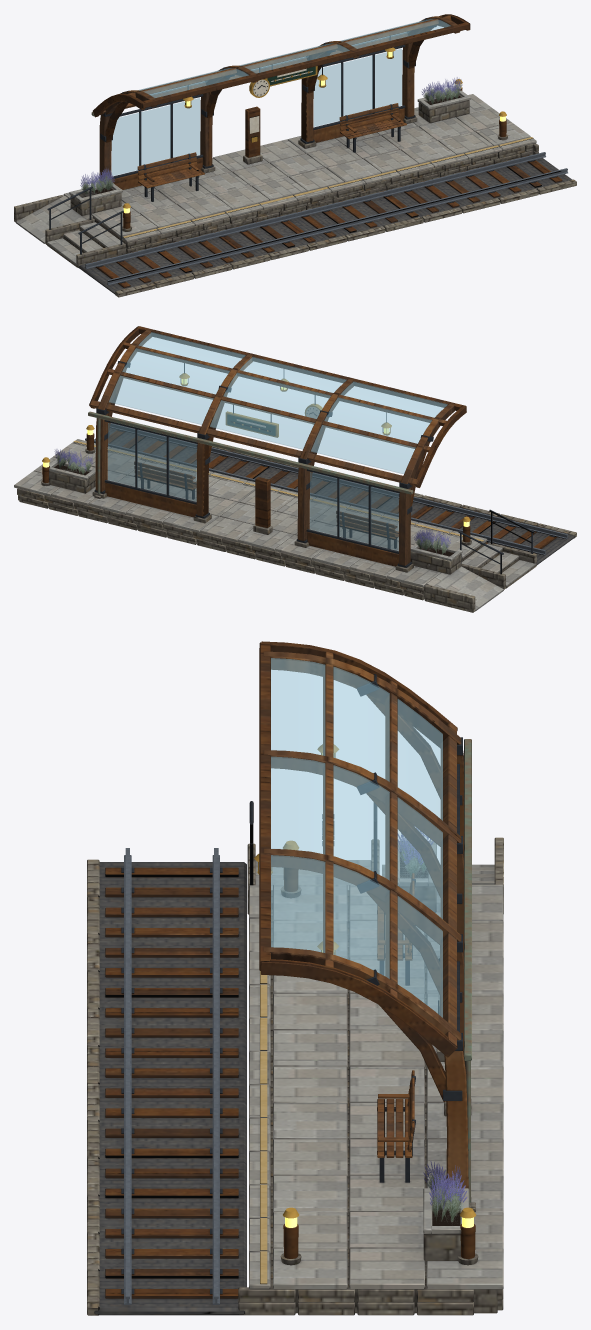
Rendered from public_tram_station.glb.
3 renders of one model, top to bottom at view 1: azimuth 30°, elevation 25°; view 2: azimuth 150°, elevation 25°; view 3: azimuth 270°, elevation 25°, orthographic. The views are drawn at different scales.
Parts seen in each view (by area): view 1: TramPlatform, TramTrackway, TramCanopyTimber, TramCanopyGlass, TramStationProps, TramPlanterLavender; view 2: TramCanopyGlass, TramPlatform, TramCanopyTimber, TramTrackway, TramStationProps, TramPlanterLavender; view 3: TramPlatform, TramTrackway, TramCanopyTimber, TramCanopyGlass, TramStationProps, TramPlanterLavender.
Boxes of the visible parts, <box> form: TramPlatform: <box>14,94,538,267</box>; TramTrackway: <box>78,152,576,297</box>; TramCanopyTimber: <box>91,14,470,189</box>; TramCanopyGlass: <box>111,18,450,175</box>; TramStationProps: <box>69,36,507,231</box>; TramPlanterLavender: <box>80,77,462,194</box>; TramCanopyGlass: <box>108,332,447,550</box>; TramPlatform: <box>14,439,536,612</box>; TramCanopyTimber: <box>88,326,466,572</box>; TramTrackway: <box>85,423,576,564</box>; TramStationProps: <box>41,363,471,574</box>; TramPlanterLavender: <box>54,448,450,554</box>; TramPlatform: <box>238,801,503,1315</box>; TramTrackway: <box>87,848,246,1315</box>; TramCanopyTimber: <box>259,641,475,1211</box>; TramCanopyGlass: <box>271,658,442,1017</box>; TramStationProps: <box>254,744,478,1265</box>; TramPlanterLavender: <box>397,826,466,1222</box>.
Bounding box in the file's own units: 13.2 × 4.01 × 5.19.
Materials: 5 (3 with a texture image).
